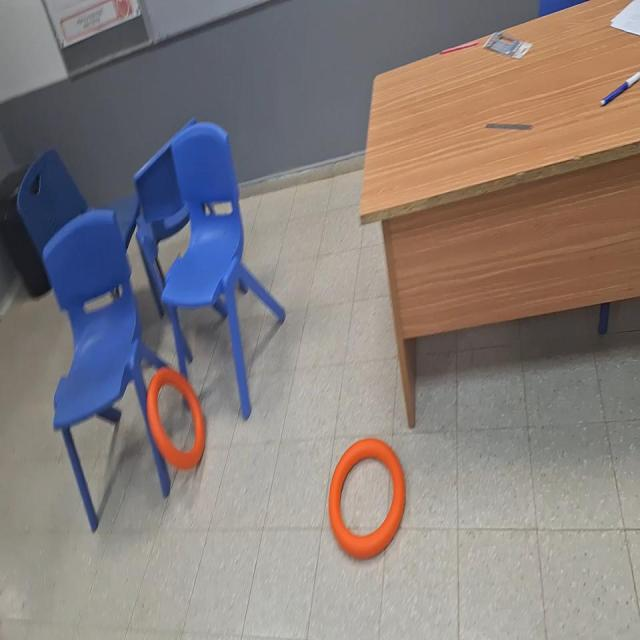note: (327, 436, 405, 561), (146, 368, 206, 472)
